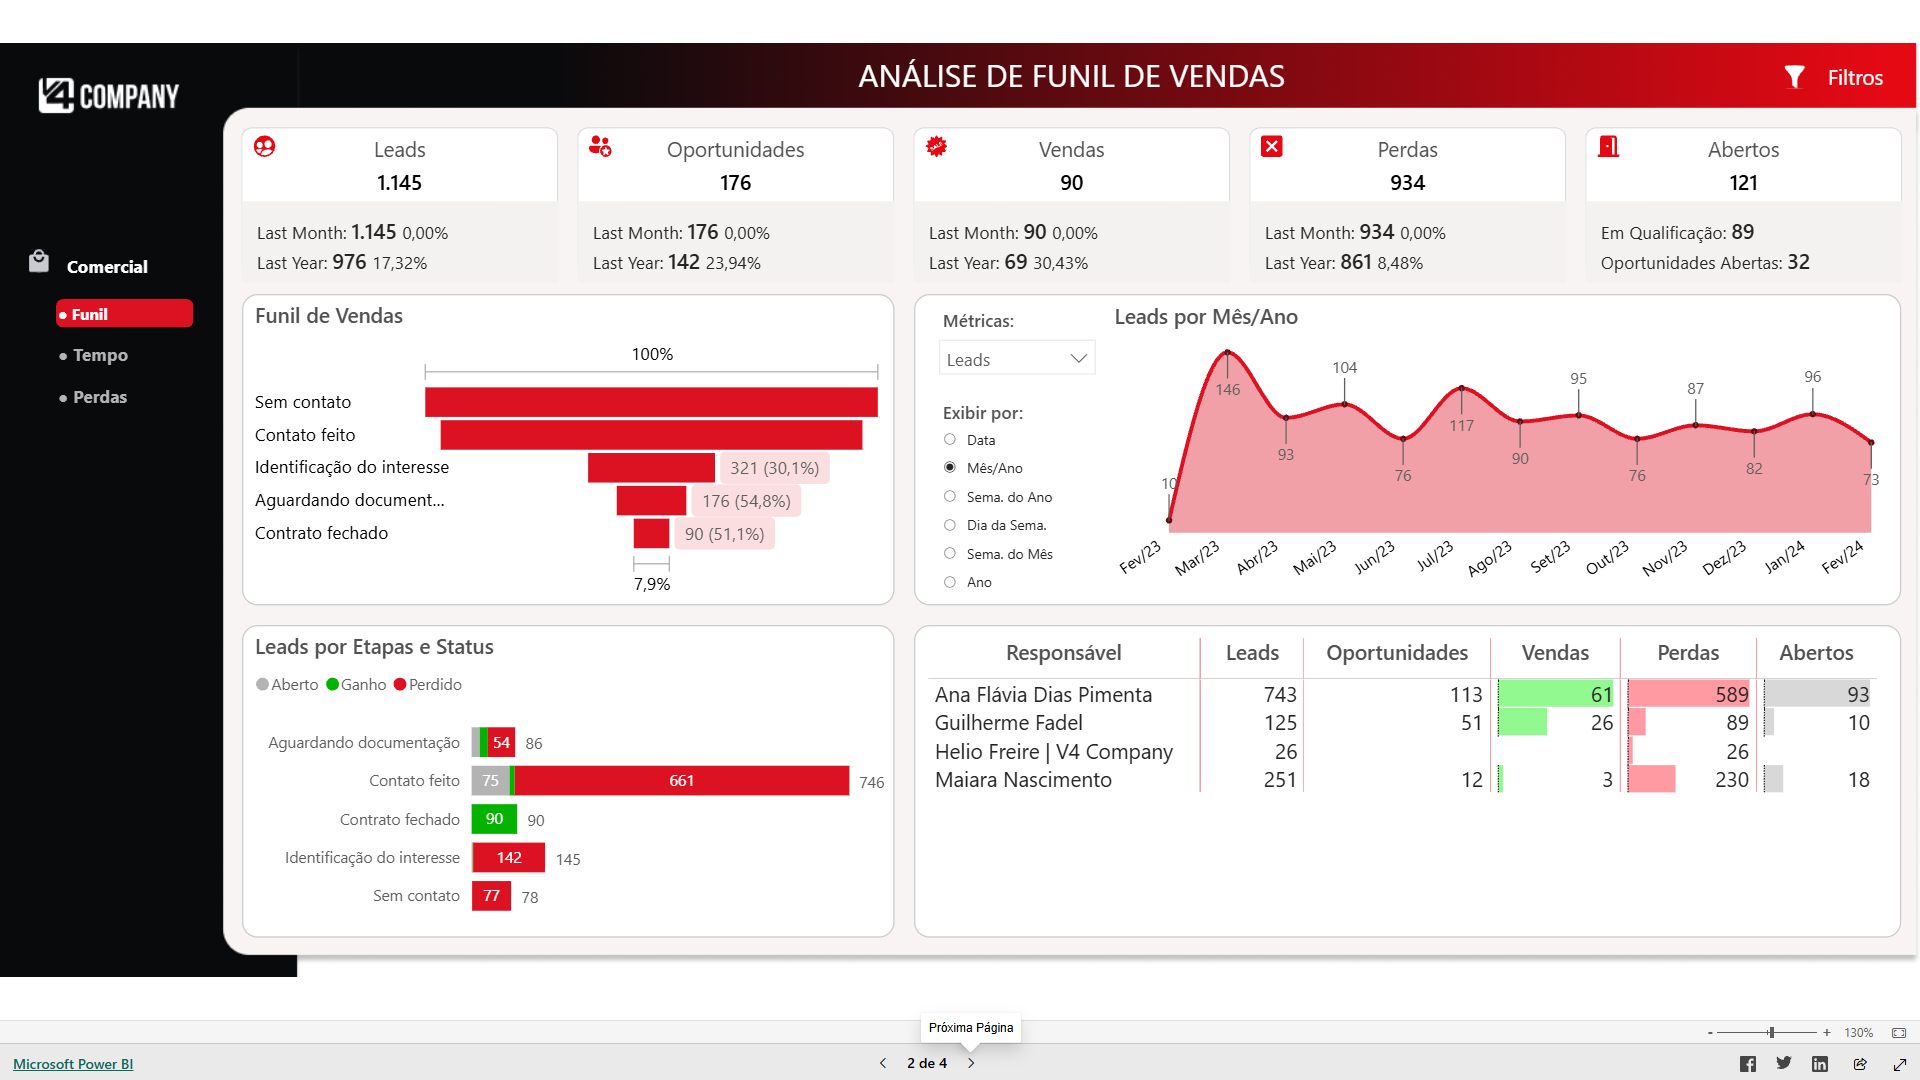

What the dashboard file says about the page in this screenshot:
{"tool":"powerbi","page":{"name":"● Funil","canvas":[1480,720],"ordinal":9},"visuals":[{"type":"textbox","box":[618.5,3,416.1,52.6],"z":0},{"type":"group","id":"g1","title":"Menu","box":[15.7,103.4,145.3,123],"z":0,"group":"g5"},{"type":"group","id":"g2","title":"Tráfego Pago","box":[15.7,103.4,145.3,123],"z":0,"group":"g1"},{"type":"pageNavigator","box":[50.4,144.8,110.6,81.6],"z":0,"group":"g2"},{"type":"group","id":"g3","title":"Comercial","box":[15.4,239.5,139.7,127.9],"z":0,"group":"g4"},{"type":"pageNavigator","box":[49,278.5,106.1,88.9],"z":0,"group":"g3"},{"type":"actionButton","box":[1377.9,2.5,77.8,45.5],"z":1000},{"type":"actionButton","box":[15.7,103.4,120,32],"z":1000,"group":"g2"},{"type":"group","id":"g4","title":"Menu","box":[15.4,239.5,139.7,127.9],"z":1000,"group":"g5"},{"type":"actionButton","box":[15.4,239.5,101,32],"z":1000,"group":"g3"},{"type":"cardVisual","fields":{"Data":["_medidas.Qtd_Leads","_medidas.Qtd_Oportunidades","_medidas.Qtd_Vendas","_medidas.Qtd Perdas","_medidas.Qtd_Abertos"]},"box":[181.2,53.7,1291.7,136.7],"z":2000},{"type":"funnel","title":"Funil de Vendas","fields":{"Category":["dim_etapas.stage_name"],"Y":["_medidas.Funil de Vendas"]},"box":[186.3,193.4,503.1,239.9],"z":3000},{"type":"barChart","fields":{"Category":["dim_etapas.stage_name"],"Y":["_medidas.Qtd_Leads"],"Series":["fato_deals.Status"]},"box":[964.1,448.1,502.2,240.8],"z":4000},{"type":"shape","box":[704.6,193.4,761.3,239.9],"z":5000},{"type":"slicer","fields":{"Values":["Datas.Parâmetro"]},"box":[713.7,270.3,140.7,164],"z":6000},{"type":"slicer","fields":{"Values":["_MetricasCRM._MetricasCRM"]},"box":[713.7,199.4,140.7,66.8],"z":7000},{"type":"areaChart","fields":{"Category":["dim_data.Nome do Dia"],"Y":["_medidas.Qtd_Oportunidades"]},"box":[854.4,199.4,611.4,234.9],"z":8000},{"type":"pivotTable","fields":{"Rows":["dim_etapas.pipeline_name","dim_users.user_name"],"Values":["_medidas.Qtd_Leads","_medidas.Qtd_Oportunidades","_medidas.Qtd_Vendas","_medidas.Qtd_Perdas","_medidas.Qtd_Abertos"]},"box":[186.7,448.1,761.6,240.8],"z":9000},{"type":"group","id":"g5","title":"Grupo 1","box":[15.4,103.4,145.7,264],"z":11000}]}

Visuals, with their boxes on the page's 1480x720 design canvas (x1, y1, x2, y2). These are canvas units, not pixel positions in the 1920x1080 screenshot, which may show the page scaled, cropped or inside an application window:
textbox: 618:3:1035:56
"Menu" group: 16:103:161:226
"Tráfego Pago" group: 16:103:161:226
pageNavigator: 50:145:161:226
"Comercial" group: 15:240:155:367
pageNavigator: 49:278:155:367
actionButton: 1378:2:1456:48
actionButton: 16:103:136:135
"Menu" group: 15:240:155:367
actionButton: 15:240:116:272
cardVisual - _medidas.Qtd_Leads x _medidas.Qtd_Oportunidades: 181:54:1473:190
"Funil de Vendas" funnel: 186:193:689:433
barChart - dim_etapas.stage_name x _medidas.Qtd_Leads: 964:448:1466:689
shape: 705:193:1466:433
slicer - Datas.Parâmetro: 714:270:854:434
slicer - _MetricasCRM._MetricasCRM: 714:199:854:266
areaChart - dim_data.Nome do Dia x _medidas.Qtd_Oportunidades: 854:199:1466:434
pivotTable - dim_etapas.pipeline_name x dim_users.user_name: 187:448:948:689
"Grupo 1" group: 15:103:161:367
